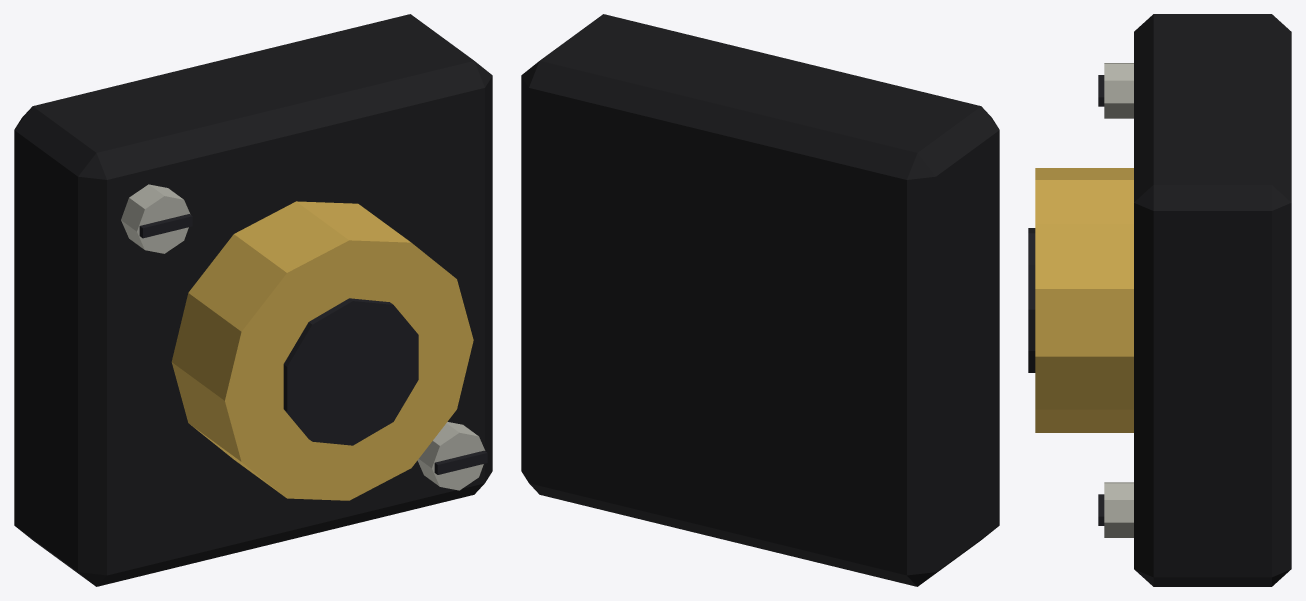
File: switch.port.glb
The picture shows the model from 3 angles, left to right: view 1: azimuth 30°, elevation 25°; view 2: azimuth 150°, elevation 25°; view 3: azimuth 270°, elevation 25°; orthographic projection. The views are drawn at different scales.
Parts seen in each view (by area): view 1: block, collar, hole, fix-top, fix-bottom, fix-top-slot, fix-bottom-slot; view 2: block; view 3: block, collar, fix-top, fix-bottom, hole.
Part boxes in pixels (bbox=[...]): block: bbox=[14, 14, 492, 586]; collar: bbox=[171, 201, 473, 500]; hole: bbox=[283, 298, 418, 445]; fix-top: bbox=[121, 184, 190, 253]; fix-bottom: bbox=[417, 422, 485, 490]; fix-top-slot: bbox=[139, 214, 192, 238]; fix-bottom-slot: bbox=[434, 450, 487, 474]; block: bbox=[521, 14, 999, 586]; block: bbox=[1134, 14, 1291, 586]; collar: bbox=[1035, 168, 1133, 432]; fix-top: bbox=[1104, 63, 1133, 118]; fix-bottom: bbox=[1104, 482, 1133, 537]; hole: bbox=[1028, 228, 1035, 372].
Bounding box in the file's own units: 0.045 × 0.045 × 0.0267.
